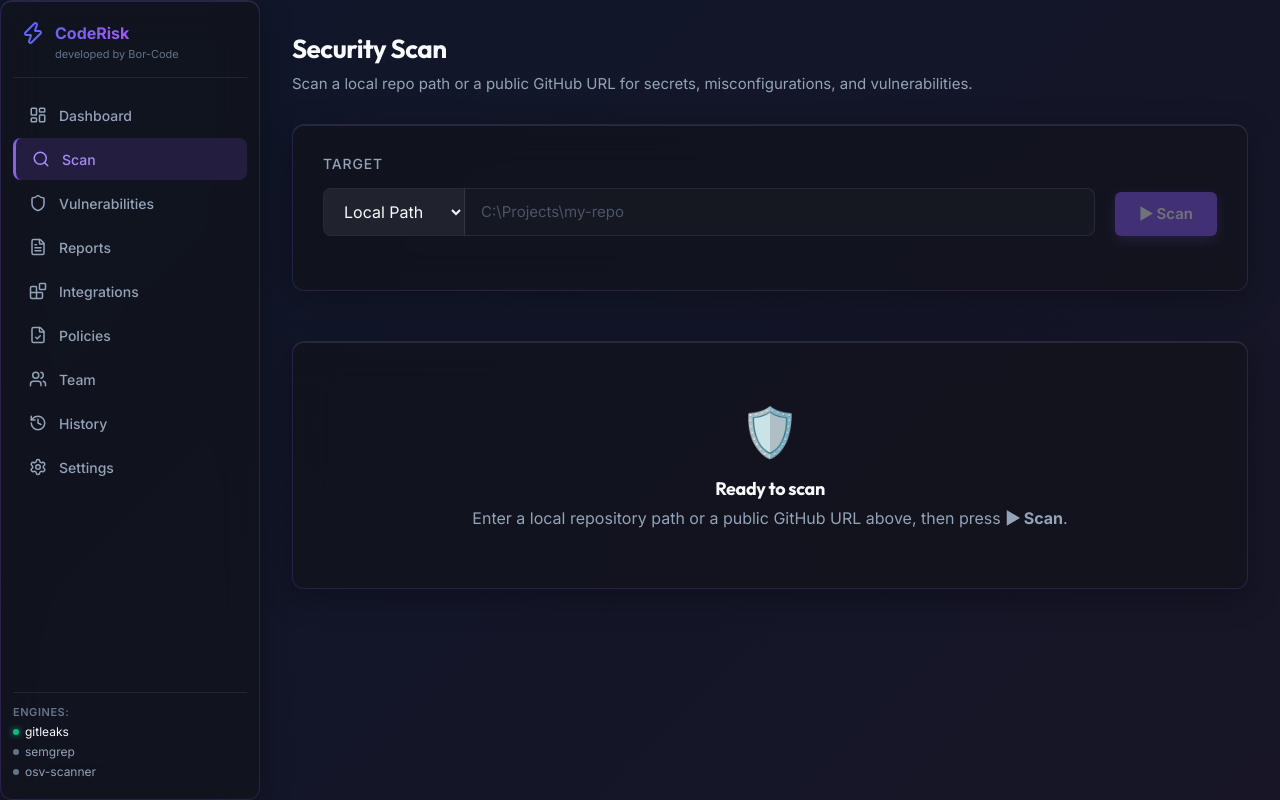
Test case: App › renders empty state and allows scan submission
Expected: the heading "Ready to scan" is shown, [715,476,825,500]
Type "/tmp/repo" into the field labelled "Target" at coordinates (780, 212), box [465,188,1094,234]
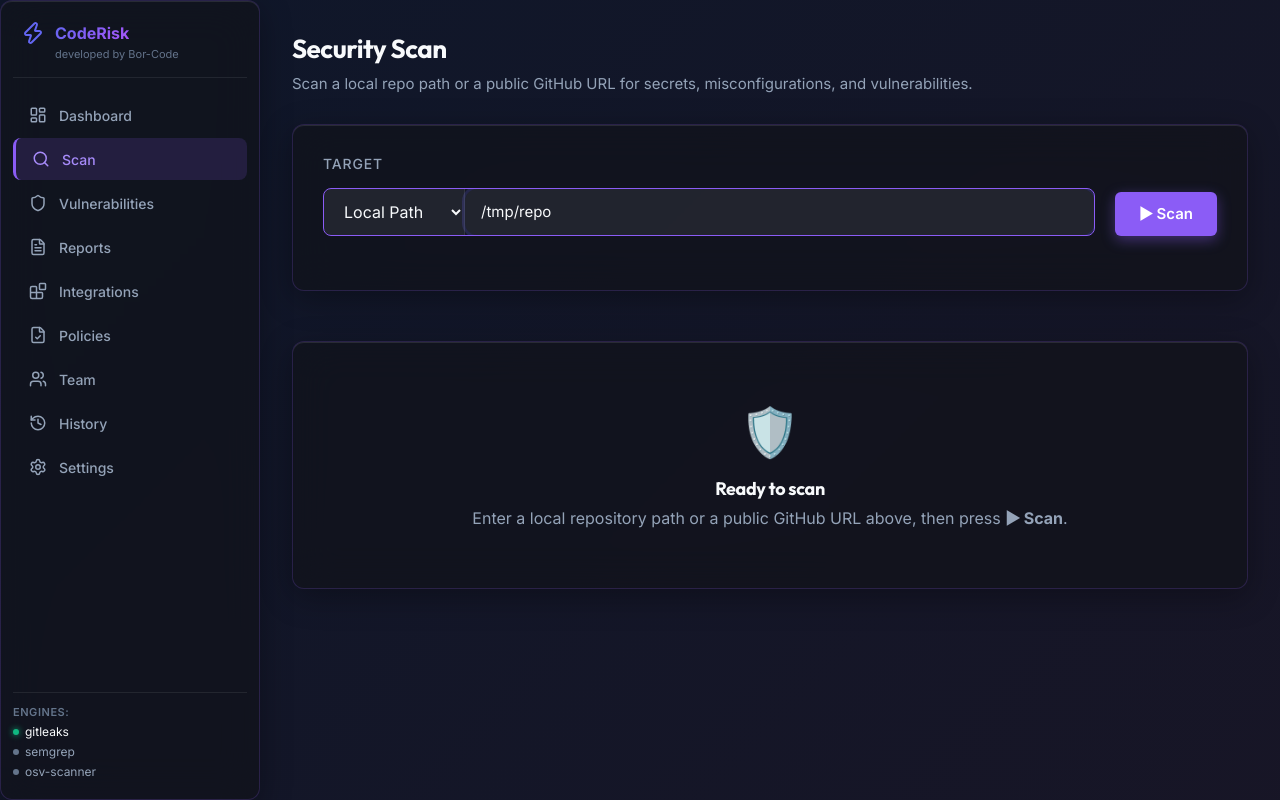
Click the button "▶ Scan" at coordinates (1166, 214), box [1115,192,1217,236]
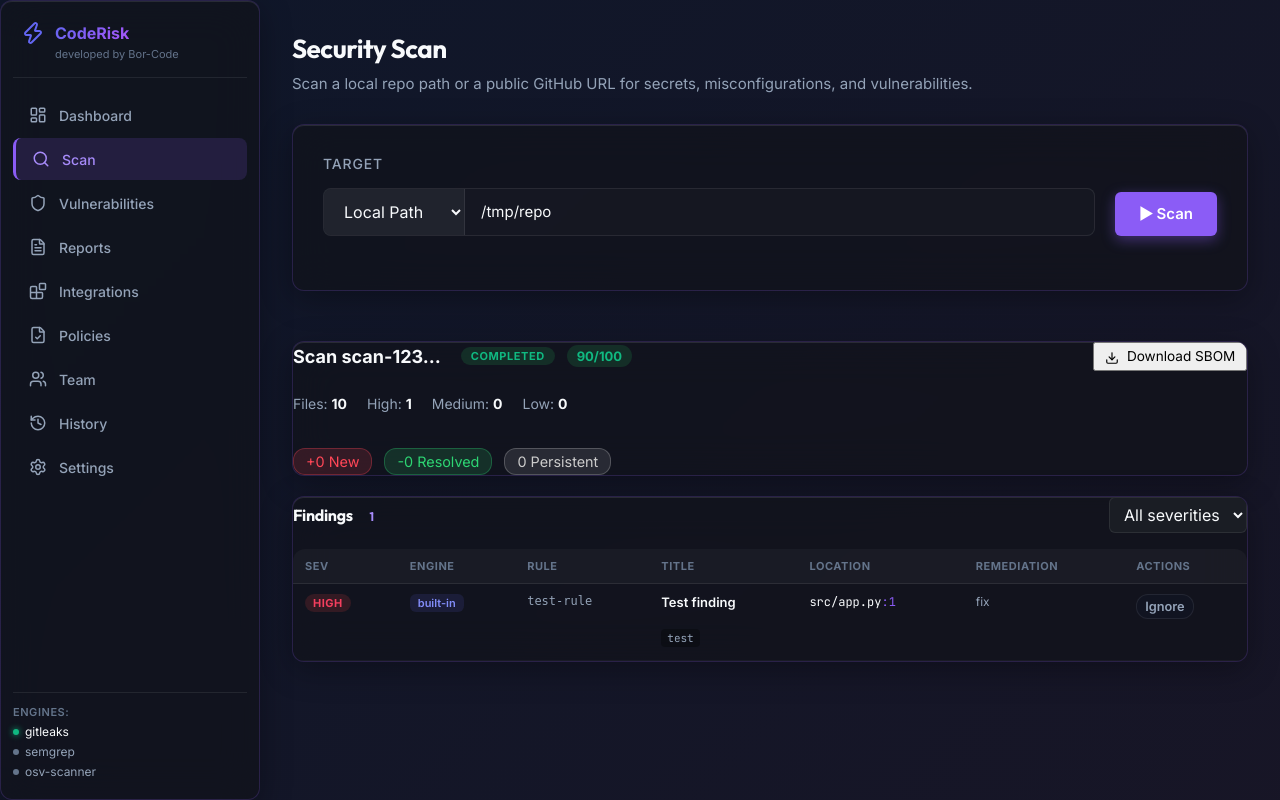
Expected: the text "Test finding" is shown, [661,594,736,610]
